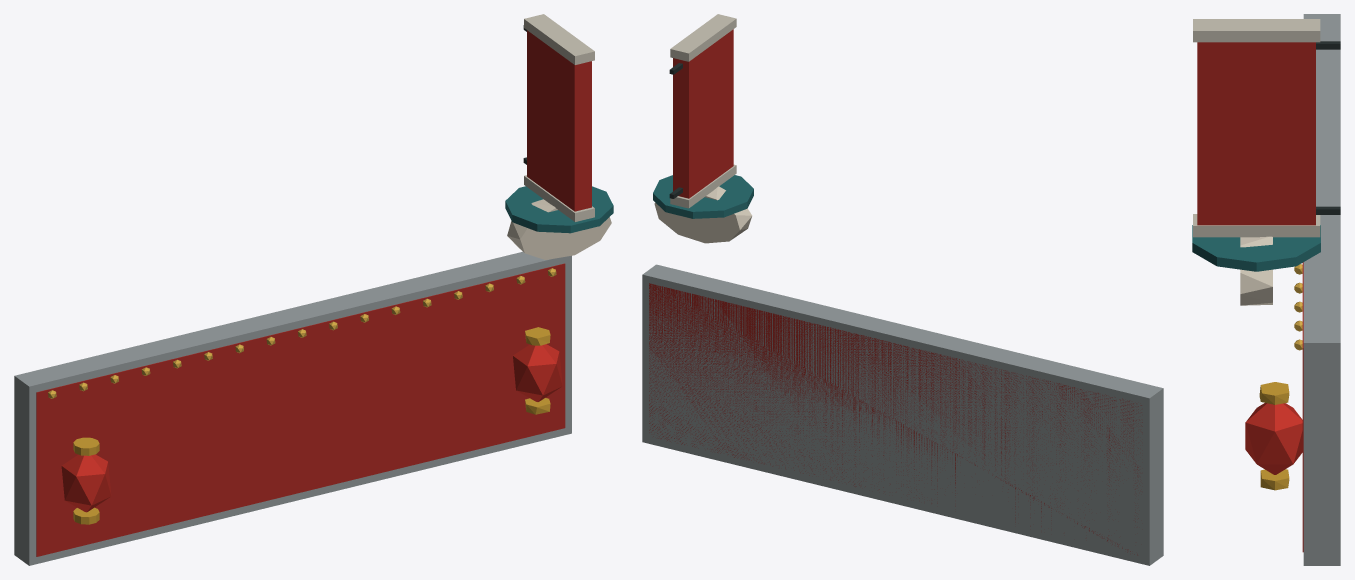
Rendered from bang_hu_tieu_mi_nam_cuong_40.glb.
The picture shows the model from 3 angles, left to right: view 1: azimuth 30°, elevation 25°; view 2: azimuth 150°, elevation 25°; view 3: azimuth 270°, elevation 25°; orthographic projection. The views are drawn at different scales.
Visible parts, largest first — view 1: bang_hu_tieu_mi_nam_cuong_40; view 2: bang_hu_tieu_mi_nam_cuong_40; view 3: bang_hu_tieu_mi_nam_cuong_40.
Part boxes in pixels (x1,y1,x2,y2): bang_hu_tieu_mi_nam_cuong_40: [14, 14, 613, 565]; bang_hu_tieu_mi_nam_cuong_40: [642, 14, 1163, 565]; bang_hu_tieu_mi_nam_cuong_40: [1192, 14, 1340, 565].
Size of the model in its own units: 3.91 by 2.81 by 0.7238.
